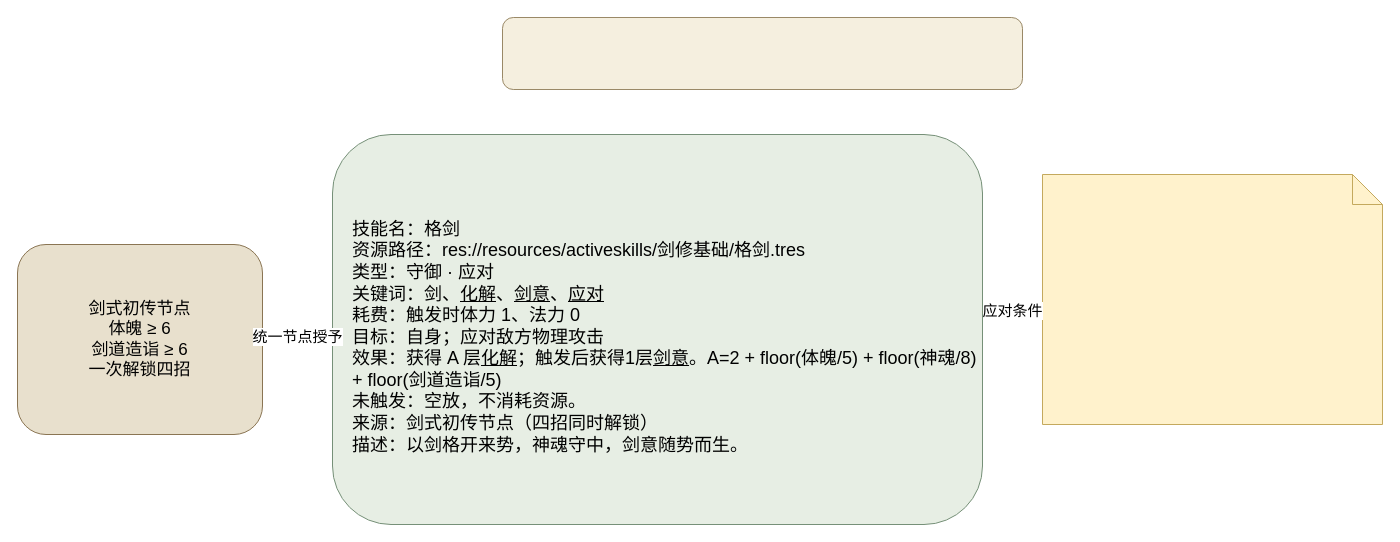
Some shapes in this 1400 by 542 pixel diagram are drawn without their labels. Each missing label, with the centre of its shape:
"人物技能卡 · 剑式初传授予" goes at [762,53].
"参悟后收入技能库 需由玩家手动装配。 应对只匹配敌方物理攻击。化解按当前招式与角色属性结算。" goes at [1212,299].
